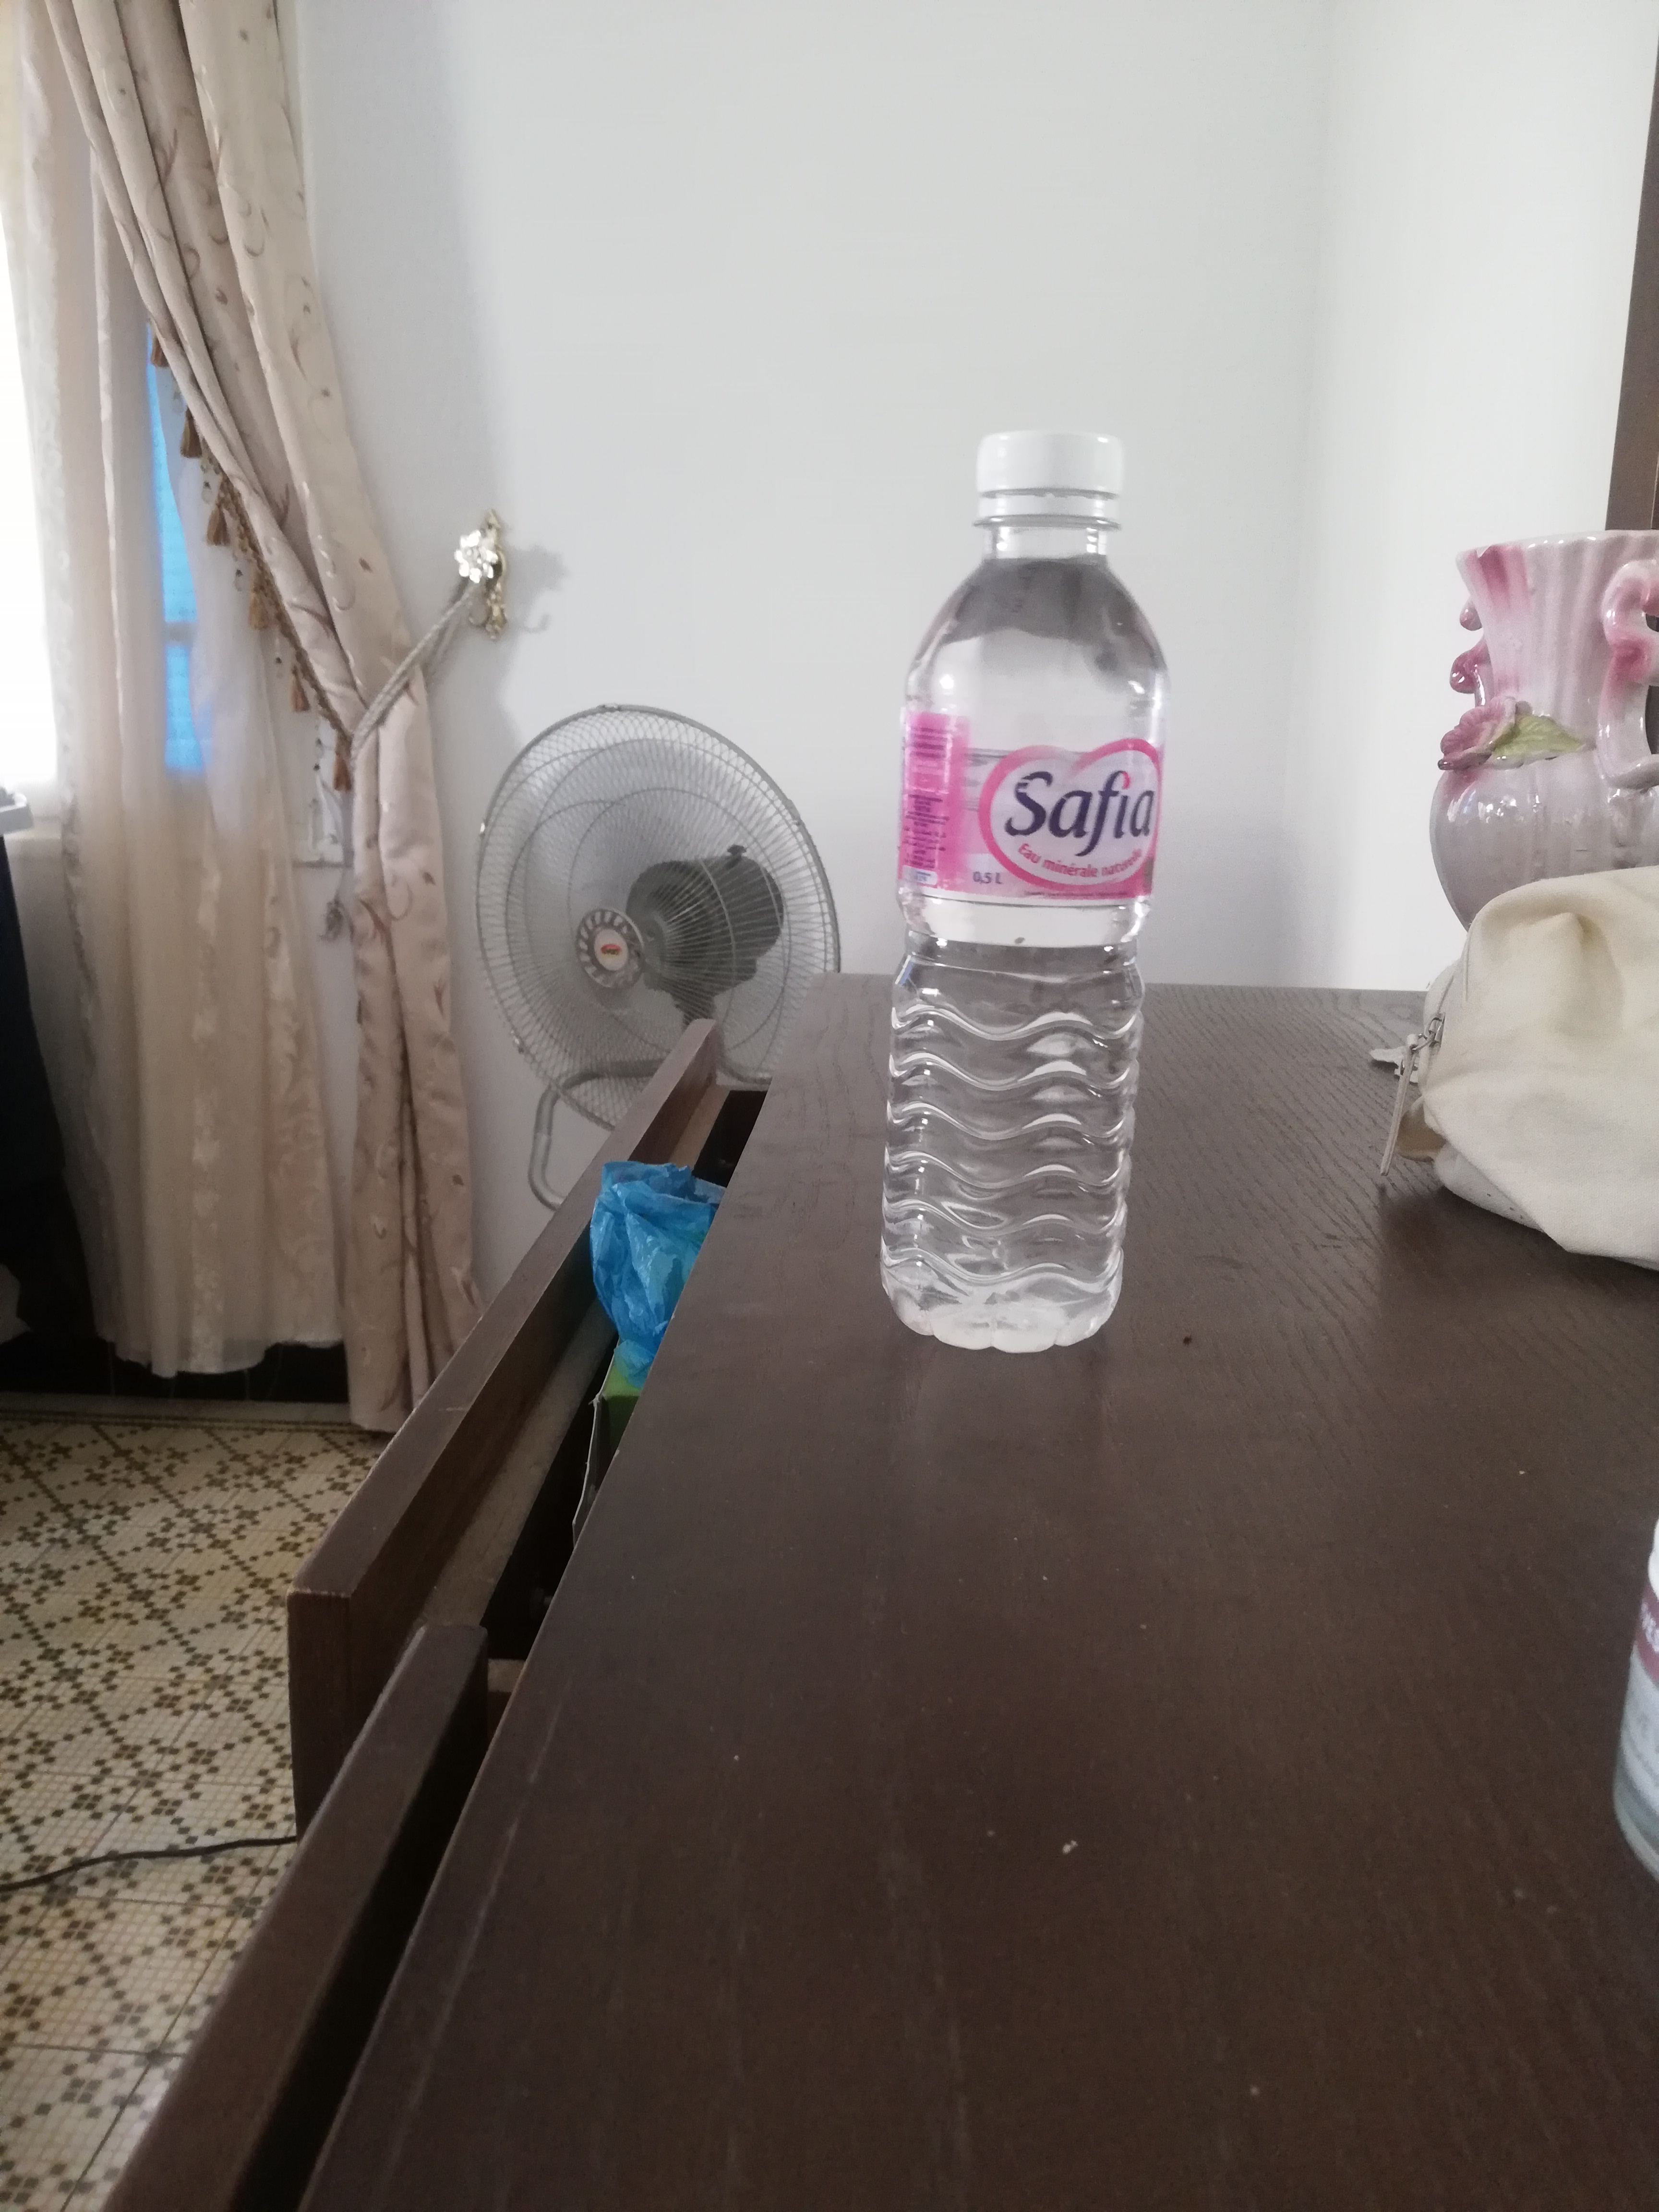Eau safia: (880, 427, 1169, 1353)
